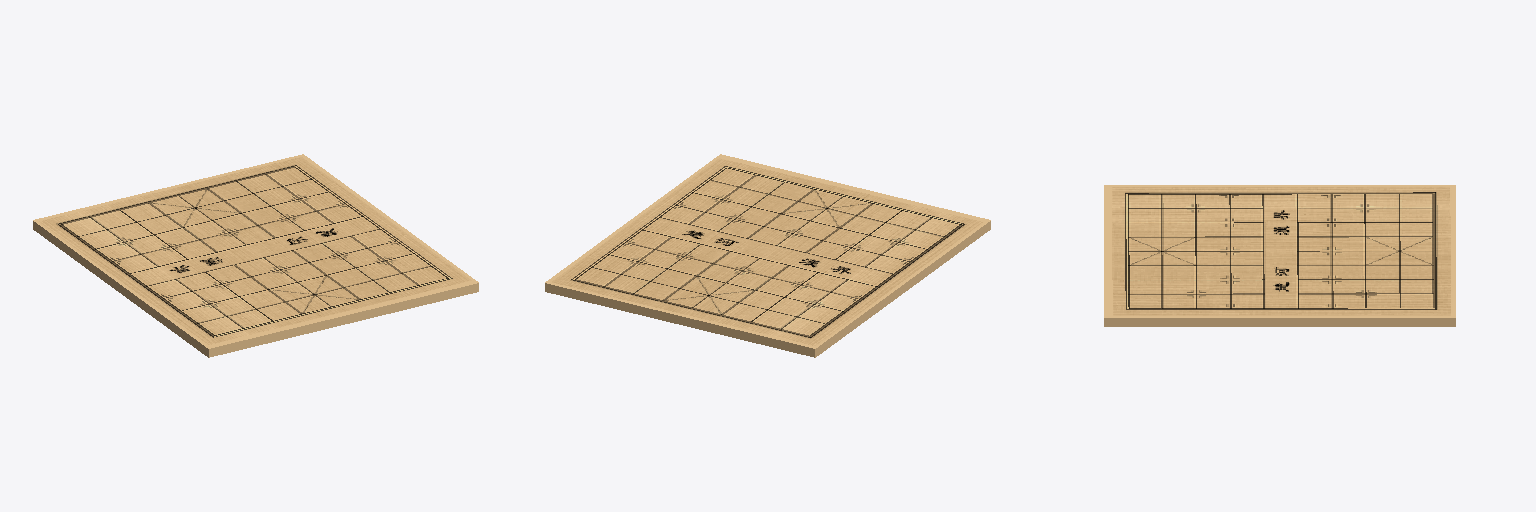
3 views of the same model, side by side, from view 1: azimuth 30°, elevation 25°; view 2: azimuth 150°, elevation 25°; view 3: azimuth 270°, elevation 25° (orthographic).
Parts seen in each view (by area): view 1: Cube; view 2: Cube; view 3: Cube.
Boxes of the visible parts, box(x1,y1,x2,y2) form: Cube: box(33, 154, 478, 357); Cube: box(545, 154, 990, 357); Cube: box(1104, 185, 1455, 326).
Size of the model in its own units: 1.6 by 0.0502 by 1.8.
Materials: 1 (1 with a texture image).